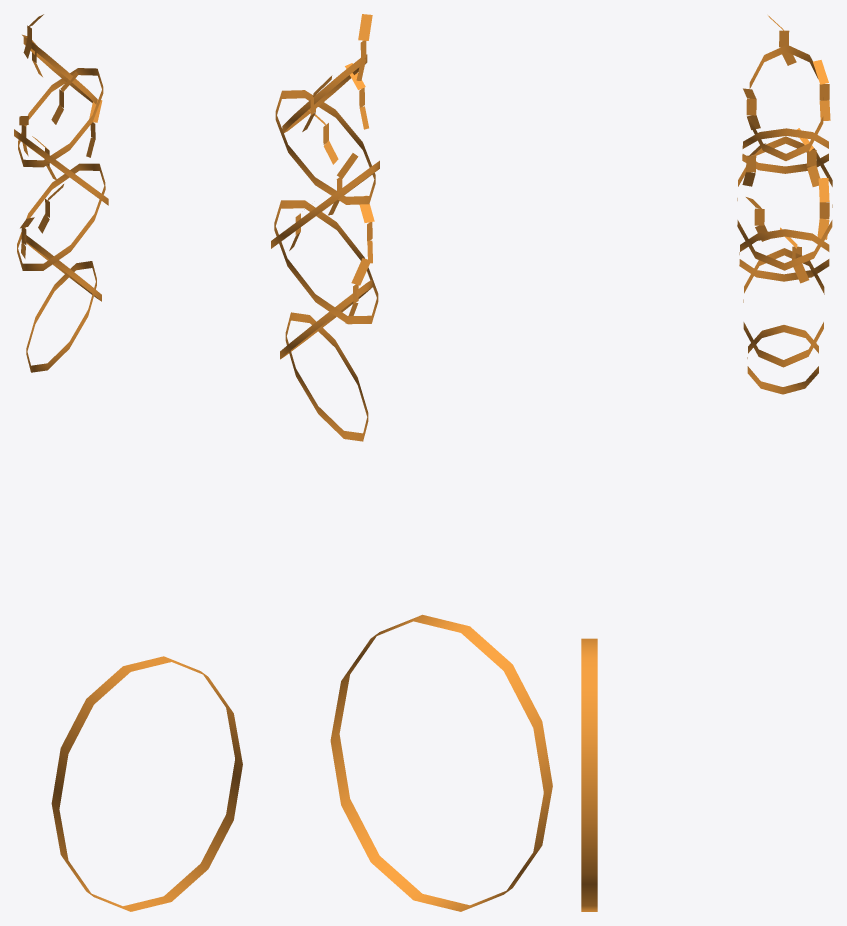
The model's file is rodfx-training-2.glb.
3 renders of one model, left to right at view 1: azimuth 30°, elevation 25°; view 2: azimuth 150°, elevation 25°; view 3: azimuth 270°, elevation 25°, orthographic. The views are drawn at different scales.
Parts seen in each view (by area): view 1: Cracks; view 2: Cracks; view 3: Cracks.
Part boxes in pixels (x1=…): Cracks: x1=14, y1=14, x2=242, y2=911; Cracks: x1=271, y1=14, x2=552, y2=911; Cracks: x1=581, y1=15, x2=832, y2=911.
Size of the model in its own units: 0.0907 by 0.3925 by 0.1022.
